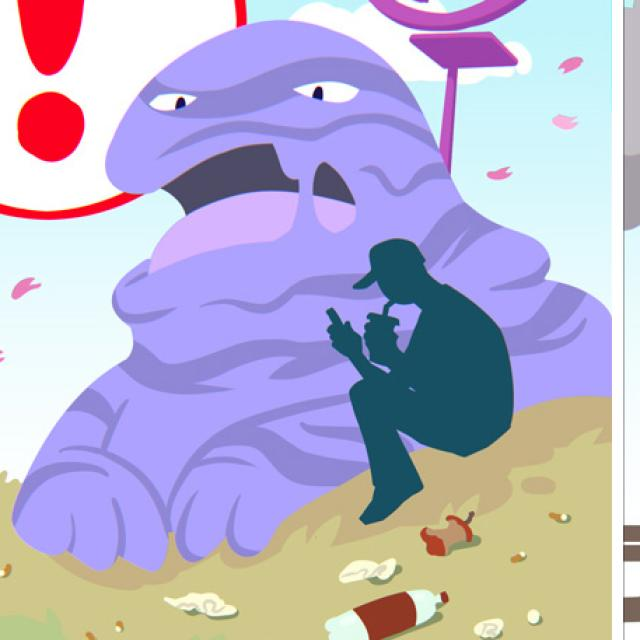Muk: (102, 19, 468, 461)
